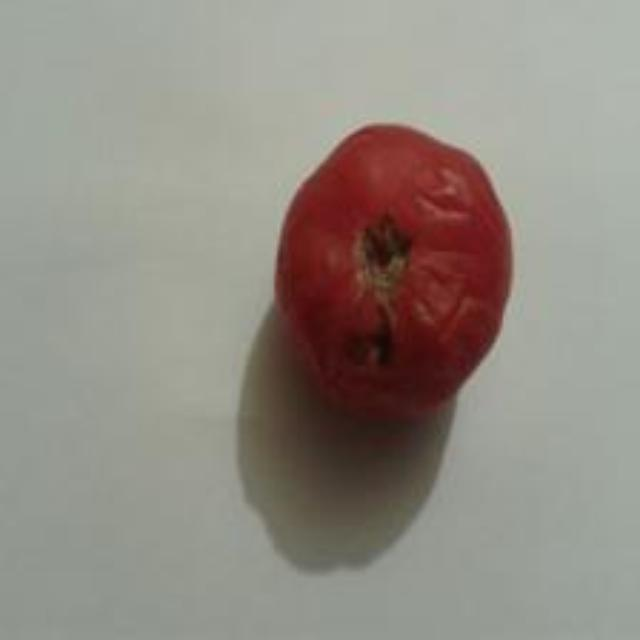defect: (270, 117, 517, 421)
